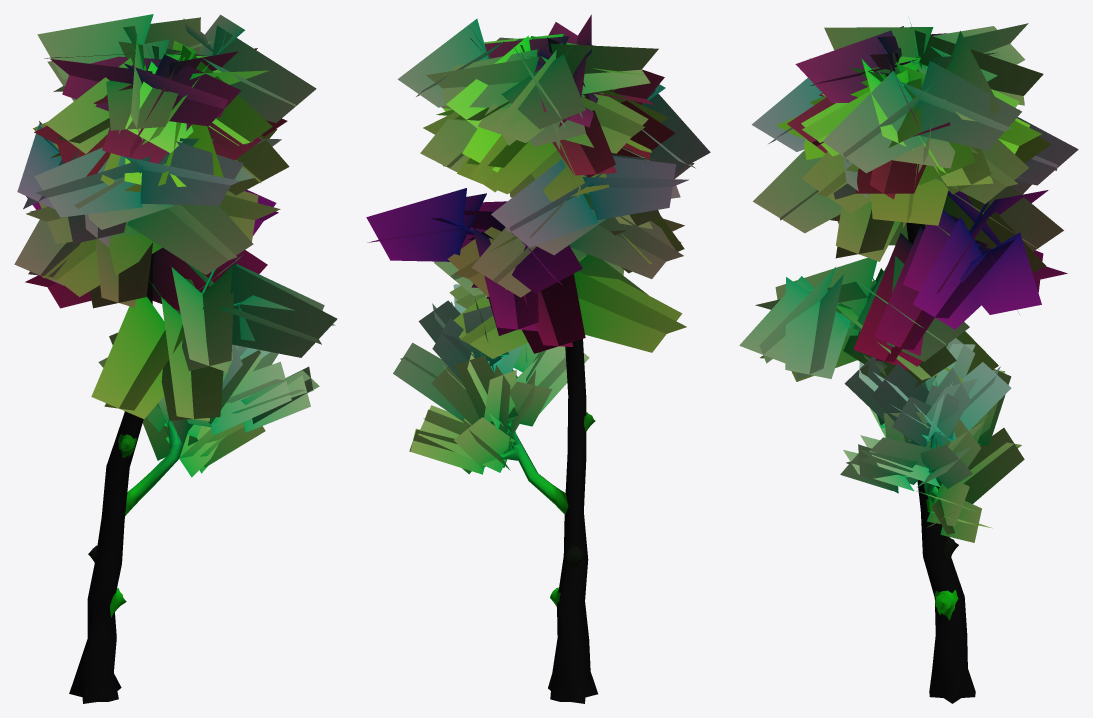
File: M_Realistic7_2.fbx
The picture shows the model from 3 angles, left to right: view 1: azimuth 30°, elevation 25°; view 2: azimuth 150°, elevation 25°; view 3: azimuth 270°, elevation 25°; orthographic projection. The views are drawn at different scales.
Visible parts, largest first — view 1: Tree_2; view 2: Tree_2; view 3: Tree_2.
Boxes of the visible parts, x1,y1,x2,y2 form: Tree_2: (14,14,337,703); Tree_2: (366,14,710,703); Tree_2: (739,22,1078,703).
Bounding box in the file's own units: 990 × 2186 × 985.
